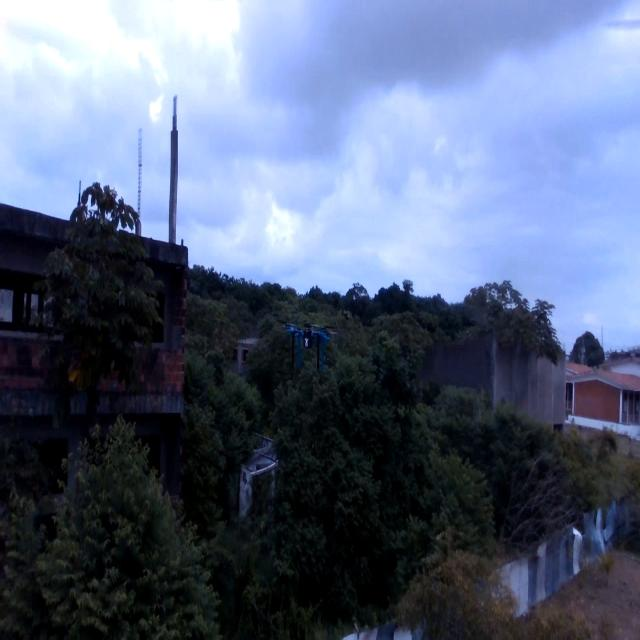-uav-: (287, 308, 330, 373)
